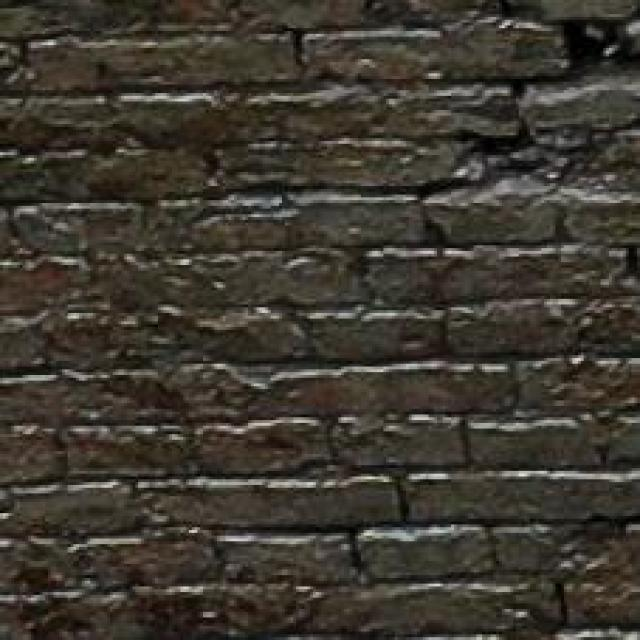Crack: (324, 0, 640, 327)
